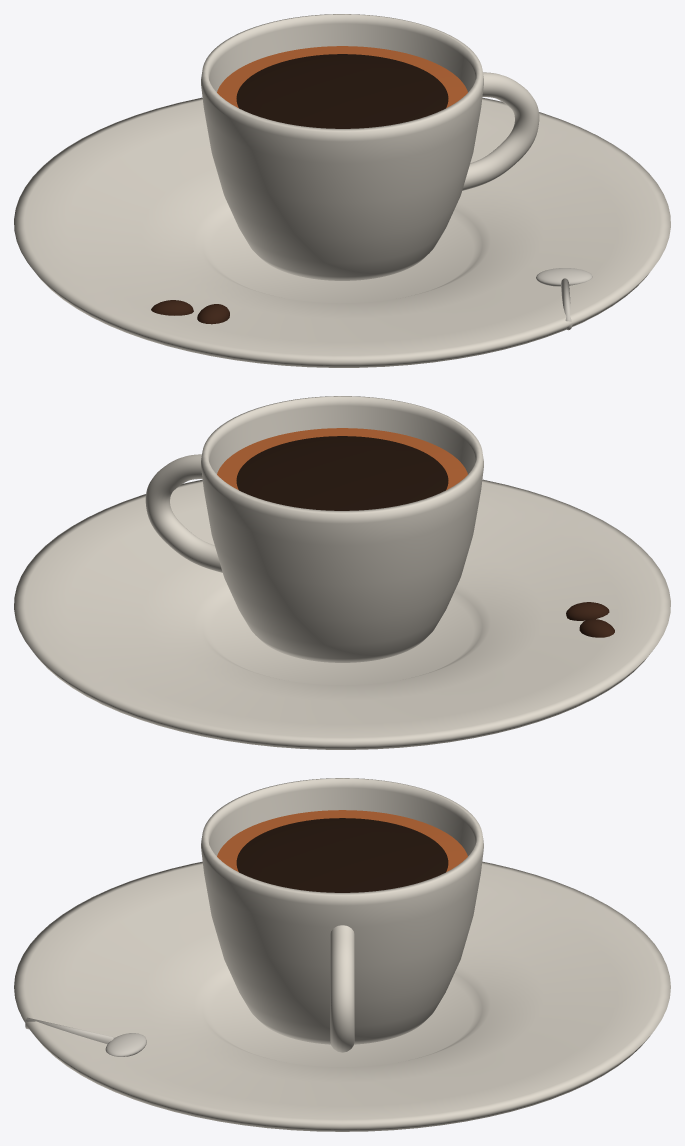
The model's file is ember.glb.
3 views of the same model, one above another, from view 1: azimuth 30°, elevation 25°; view 2: azimuth 150°, elevation 25°; view 3: azimuth 270°, elevation 25° (orthographic).
Parts seen in each view (by area): view 1: Saucer, Cup, Coffee, Handle, Crema, Spoon, Bean_2, Bean_1; view 2: Saucer, Cup, Coffee, Handle, Crema, Bean_1, Bean_2; view 3: Saucer, Cup, Coffee, Crema, Handle, Spoon.
Boxes of the visible parts, x1,y1,x2,y2 form: Saucer: [14, 97, 670, 367]; Cup: [201, 14, 483, 280]; Coffee: [236, 54, 448, 128]; Handle: [462, 72, 539, 190]; Crema: [217, 46, 467, 108]; Spoon: [536, 268, 592, 330]; Bean_2: [151, 300, 193, 315]; Bean_1: [197, 304, 229, 324]; Saucer: [14, 479, 670, 749]; Cup: [201, 396, 483, 662]; Coffee: [236, 436, 448, 510]; Handle: [145, 454, 222, 572]; Crema: [217, 428, 467, 490]; Bean_1: [566, 602, 609, 620]; Bean_2: [579, 619, 614, 637]; Saucer: [14, 861, 670, 1131]; Cup: [201, 778, 483, 1044]; Coffee: [236, 818, 448, 892]; Crema: [217, 810, 467, 872]; Handle: [330, 925, 354, 1052]; Spoon: [25, 1017, 146, 1056].
Size of the model in its own units: 3.1 by 0.952 by 3.1.
